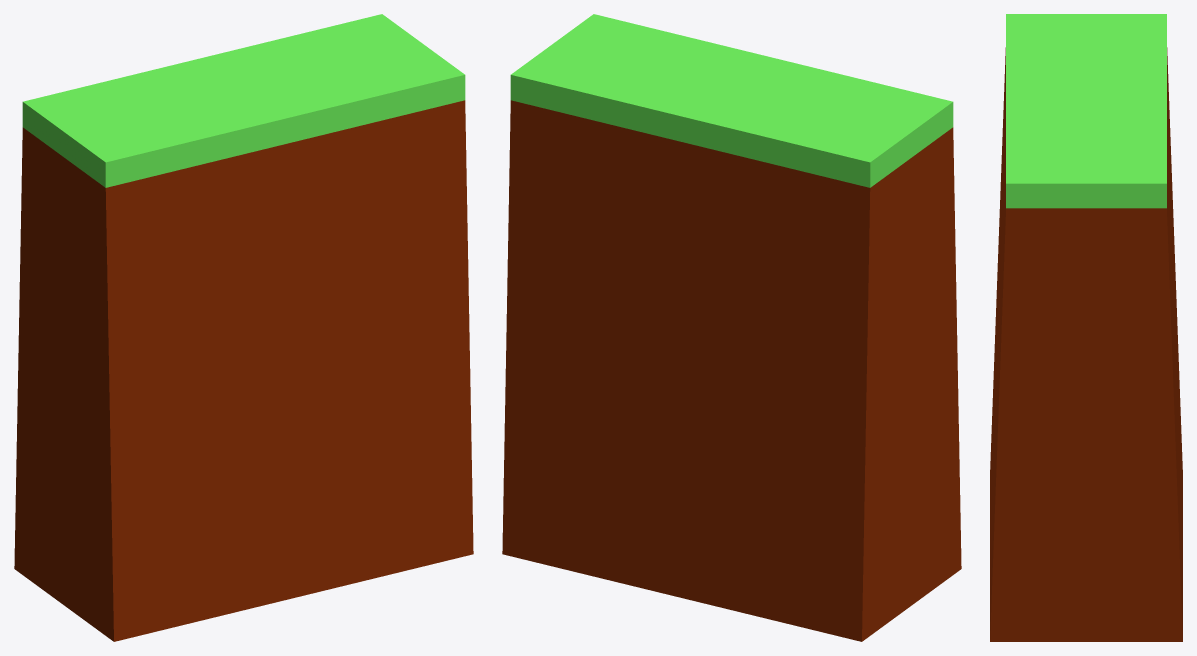
Rendered from escenarioTestDerecha4L.fbx.
3 views of the same model, side by side, from view 1: azimuth 30°, elevation 25°; view 2: azimuth 150°, elevation 25°; view 3: azimuth 270°, elevation 25° (orthographic). The views are drawn at different scales.
Visible parts, largest first — view 1: Cube.010; view 2: Cube.010; view 3: Cube.010.
Boxes of the visible parts, x1=… form: Cube.010: x1=14, y1=14, x2=473, y2=641; Cube.010: x1=502, y1=14, x2=961, y2=641; Cube.010: x1=990, y1=14, x2=1182, y2=641.
Size of the model in its own units: 1783 by 2244 by 856.
